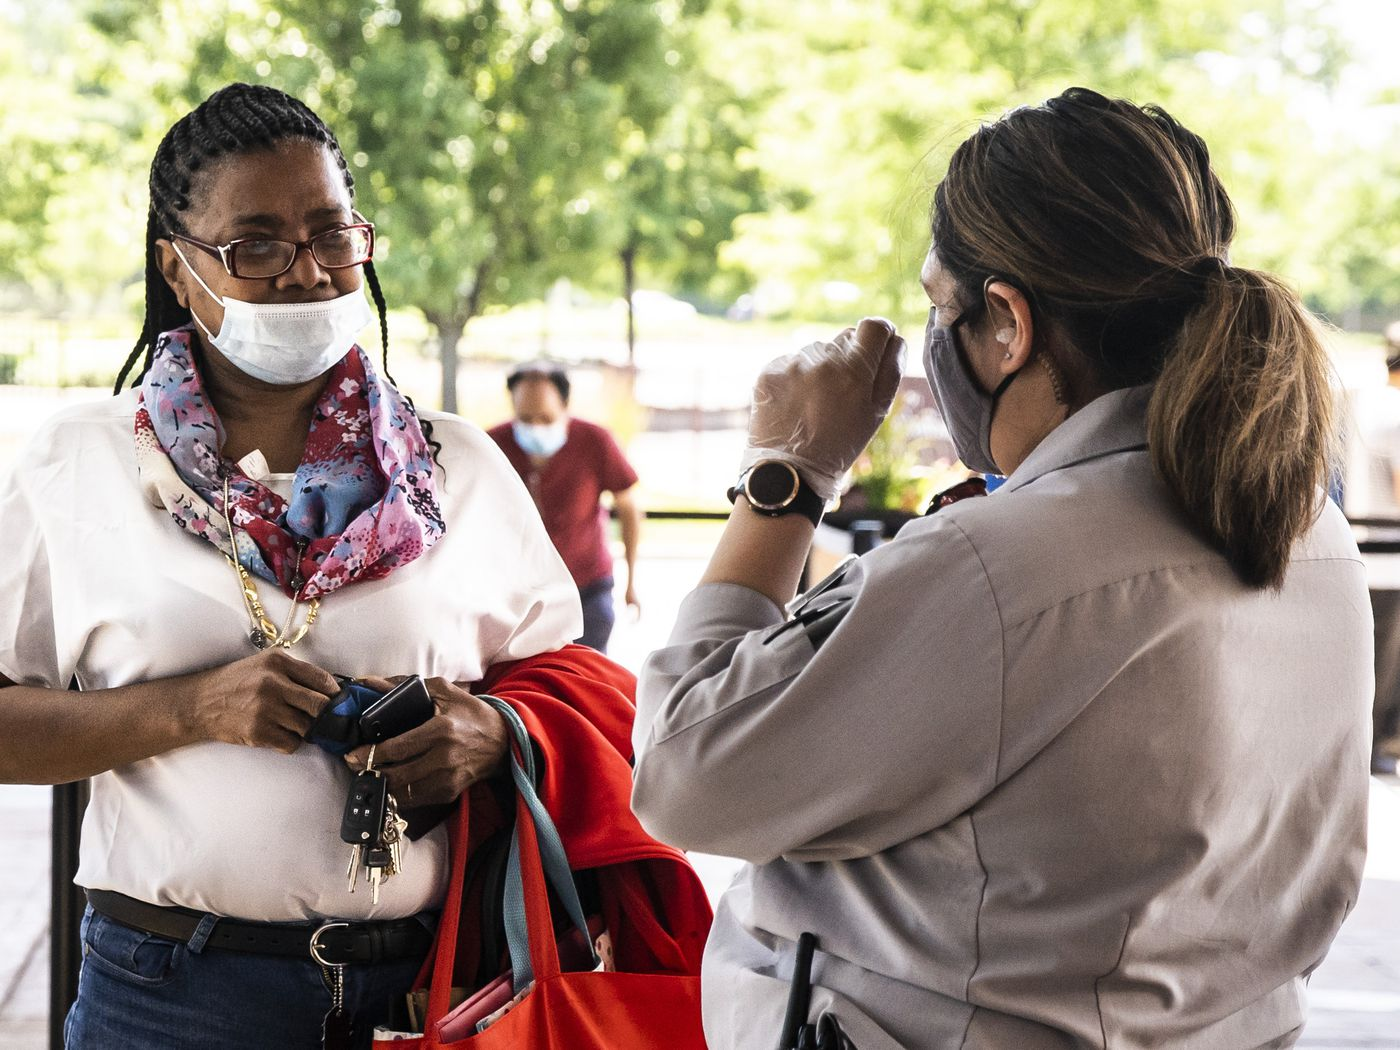with_incorrect_mask: (205, 161, 364, 369)
